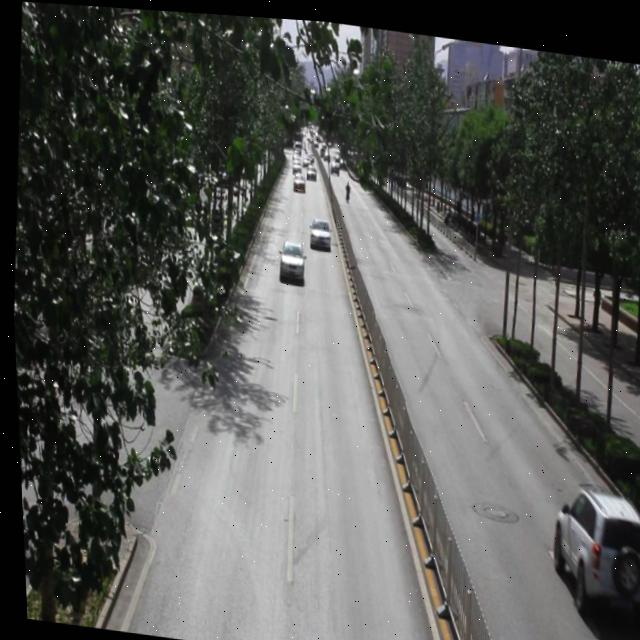car: (541, 477, 640, 613), (275, 234, 303, 278), (305, 213, 330, 245)
